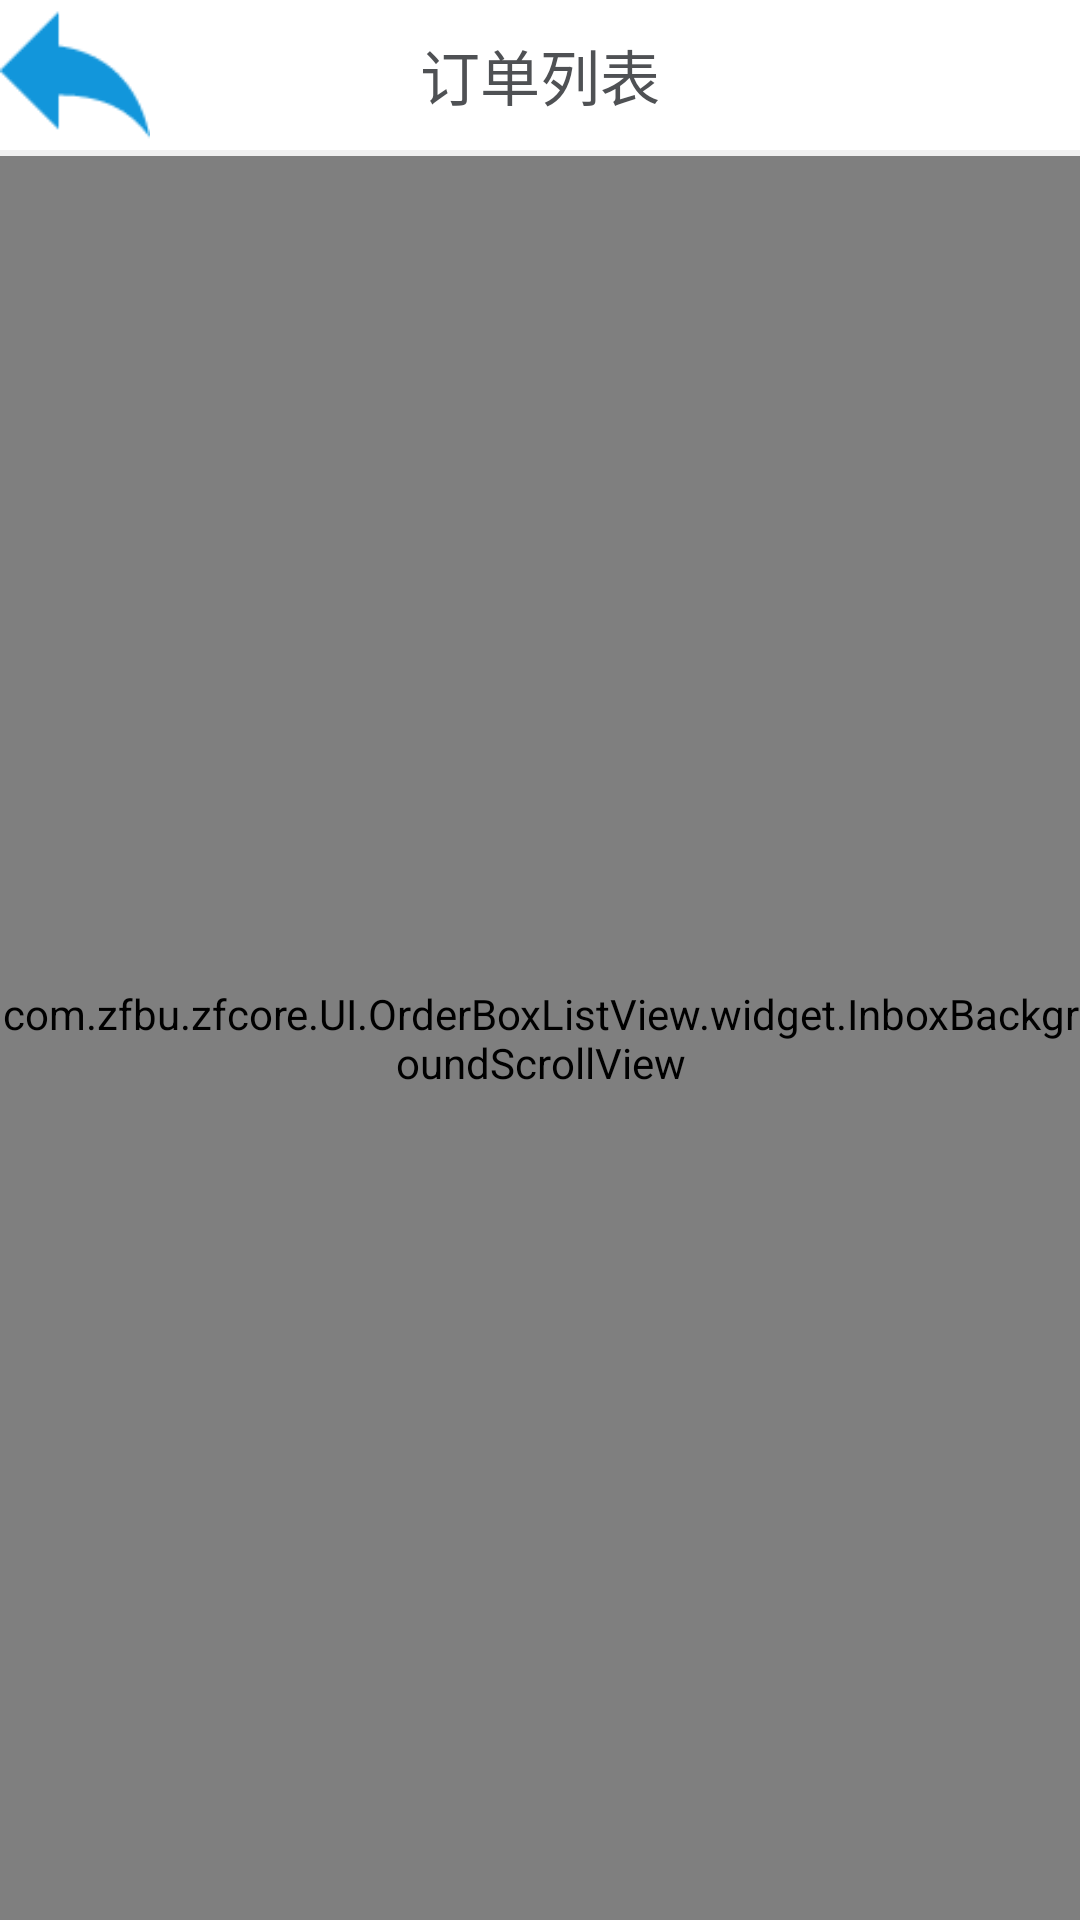

Icons on this 1080x1920 Android screen, each with its box as (x1, y1, x2, y2):
left: (0, 11, 150, 138)
